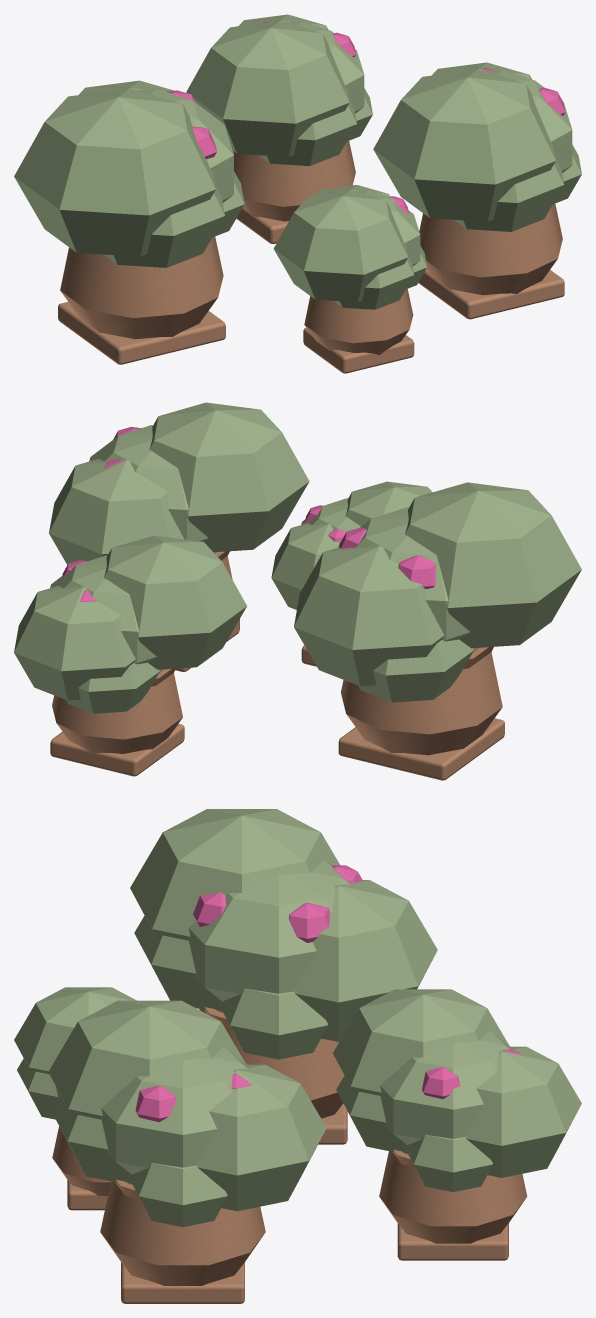
The model's file is greek-island-village-and-harbour-potted-geranium-set-8c89825c__37094.glb.
3 views of the same model, one above another, from view 1: azimuth 30°, elevation 25°; view 2: azimuth 150°, elevation 25°; view 3: azimuth 270°, elevation 25° (orthographic). The views are drawn at different scales.
Visible parts, largest first — view 1: potted-geranium-set; view 2: potted-geranium-set; view 3: potted-geranium-set.
Boxes of the visible parts, <box> form: potted-geranium-set: <box>14,14,581,373</box>; potted-geranium-set: <box>14,402,581,780</box>; potted-geranium-set: <box>14,809,581,1303</box>.
Bounding box in the file's own units: 1.49 × 0.7092 × 1.3.
3 materials, 1 textured.
